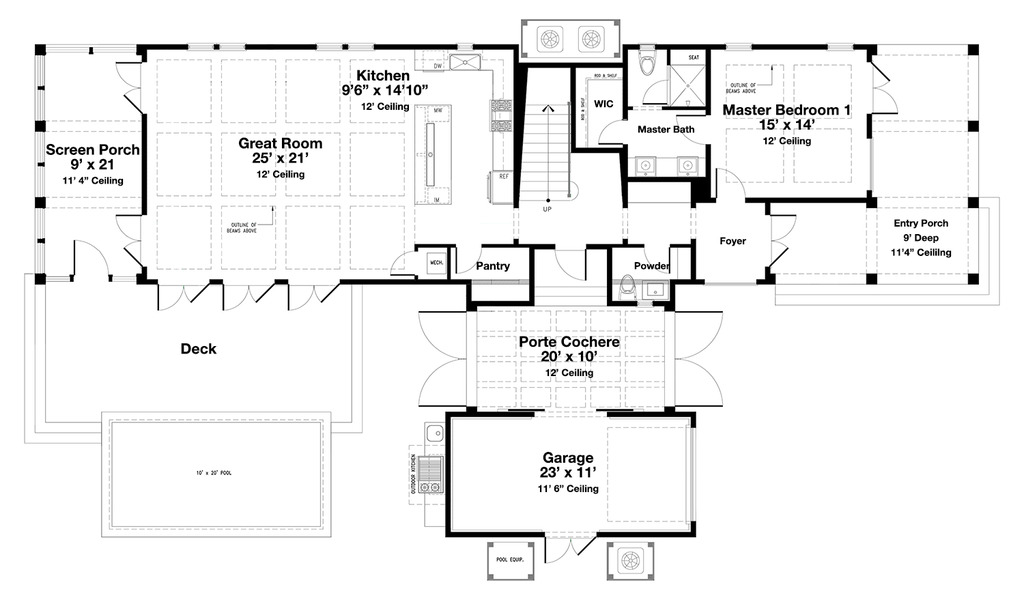door: (414, 308, 469, 409), (672, 309, 725, 411), (113, 57, 149, 117), (542, 532, 602, 564), (868, 62, 902, 118), (766, 211, 799, 268), (284, 279, 342, 311), (155, 279, 212, 311), (69, 239, 112, 280), (114, 213, 144, 267), (550, 245, 590, 281), (219, 283, 276, 308), (710, 164, 746, 202), (453, 243, 483, 274), (595, 115, 625, 145), (389, 249, 419, 278), (638, 80, 669, 106)
large_sink: (637, 48, 660, 79), (615, 270, 637, 300)
small_sink: (642, 281, 666, 298)
stairs: (516, 68, 574, 216)
windows: (310, 39, 377, 53), (182, 41, 249, 53), (823, 42, 855, 54), (723, 41, 755, 52)
